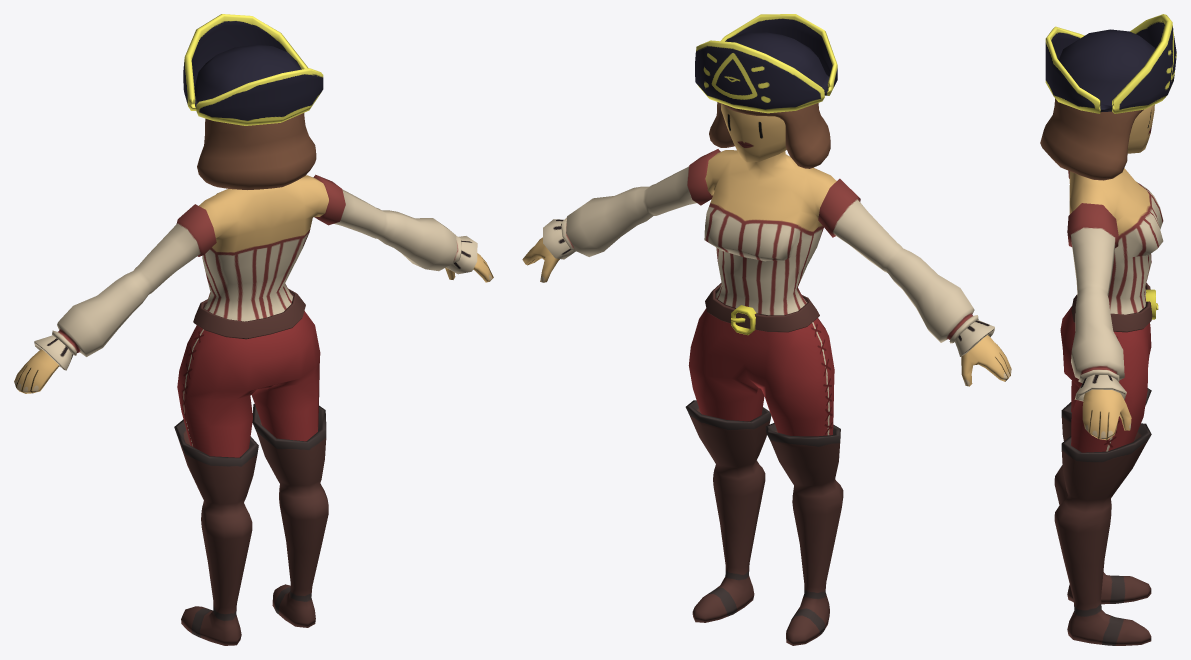
The model's file is mesh_char_57.fbx.
3 views of the same model, side by side, from view 1: azimuth 30°, elevation 25°; view 2: azimuth 150°, elevation 25°; view 3: azimuth 270°, elevation 25° (orthographic).
Parts seen in each view (by area): view 1: mesh_char_57; view 2: mesh_char_57; view 3: mesh_char_57.
Boxes of the visible parts, bbox=[...] form: mesh_char_57: bbox=[14, 14, 493, 645]; mesh_char_57: bbox=[522, 14, 1011, 645]; mesh_char_57: bbox=[1040, 14, 1176, 645].
Size of the model in its own units: 8.33 by 9.83 by 2.04.
Materials: 1 (1 with a texture image).
